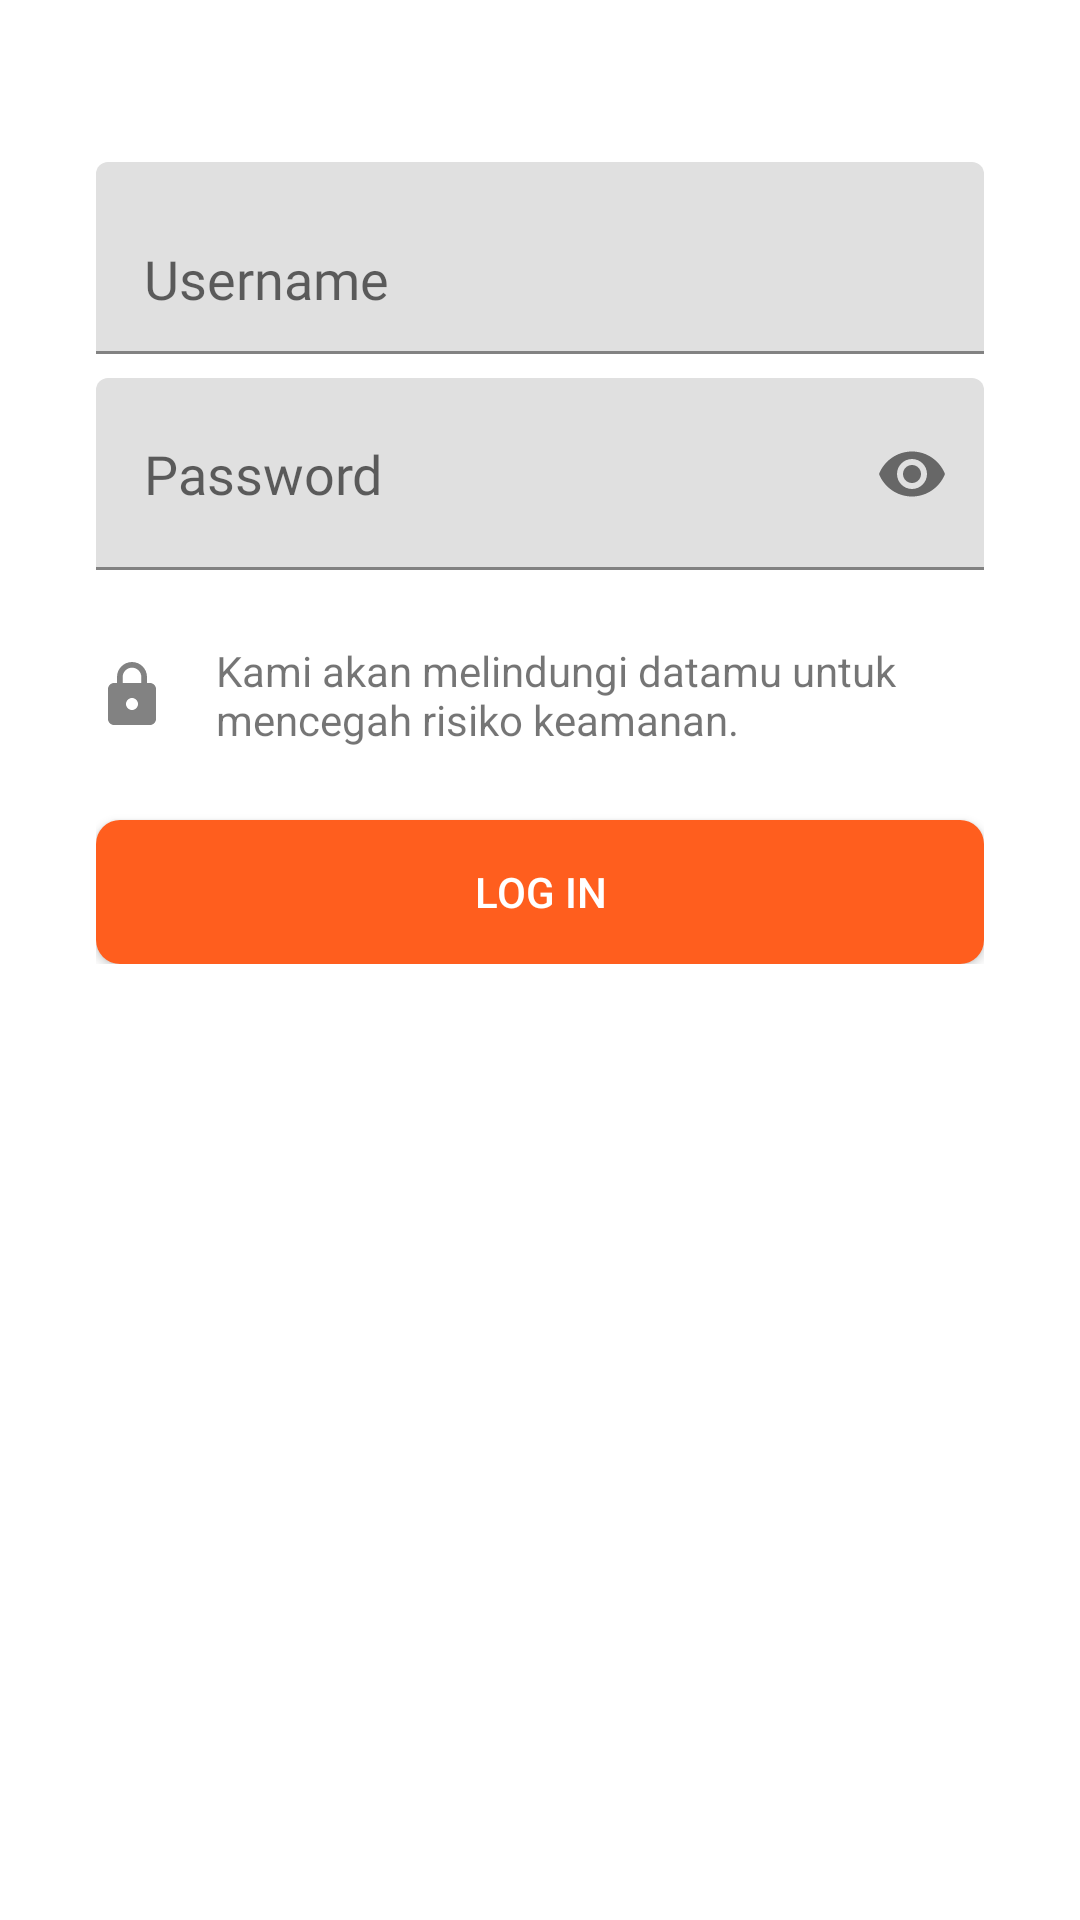

Where to tap for icons on this 1080px x 1920px app screen, as (x,y):
padlock: (132,693)
